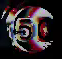Speed limit: (4, 3, 57, 53)
